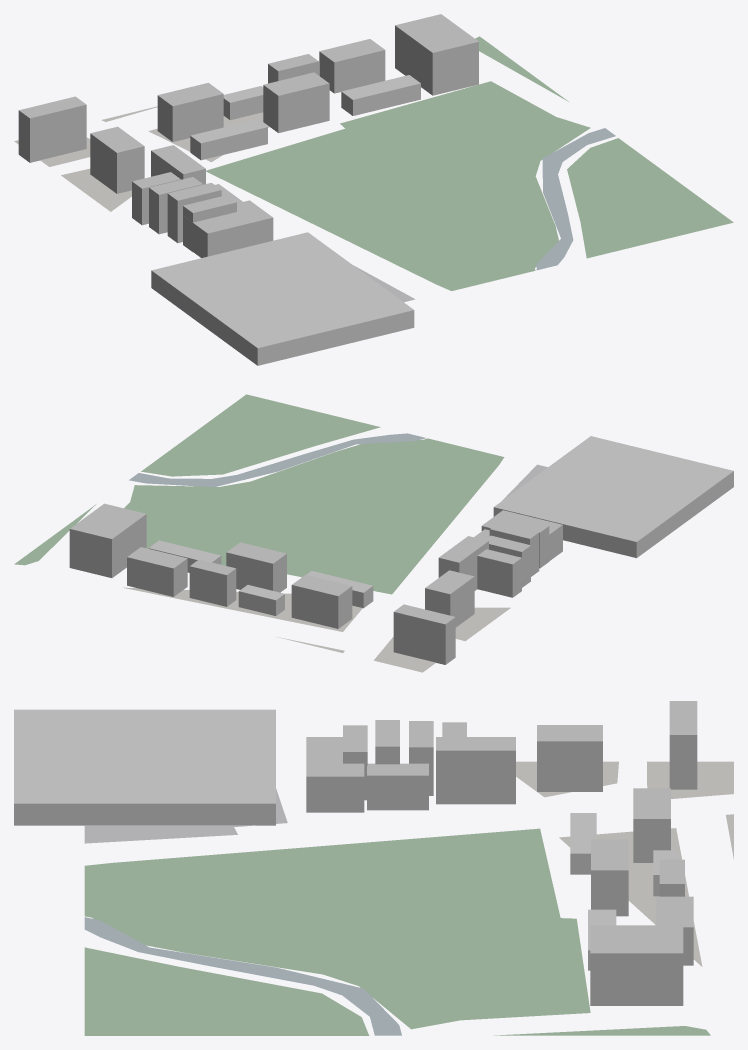
The model's file is 119_113_mid.glb.
The picture shows the model from 3 angles, top to bottom: view 1: azimuth 30°, elevation 25°; view 2: azimuth 150°, elevation 25°; view 3: azimuth 270°, elevation 25°; orthographic projection. The views are drawn at different scales.
Size of the model in its own units: 553 by 46.6 by 554.
